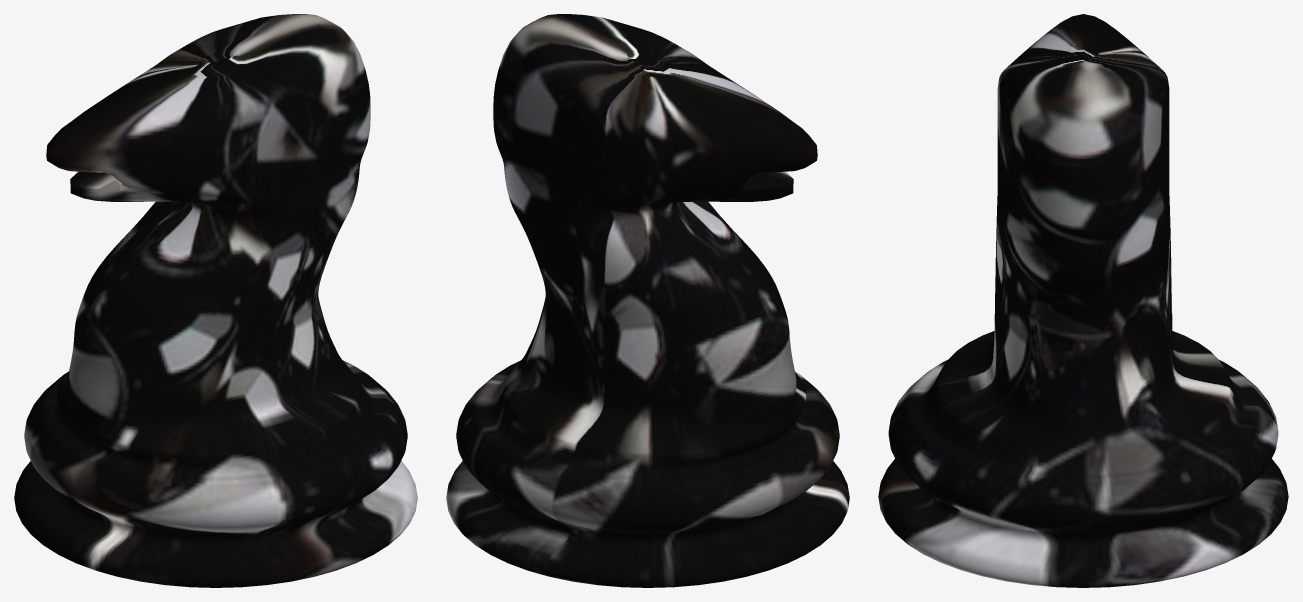
Rendered from knight.obj.
The picture shows the model from 3 angles, left to right: view 1: azimuth 30°, elevation 25°; view 2: azimuth 150°, elevation 25°; view 3: azimuth 270°, elevation 25°; orthographic projection.
Parts seen in each view (by area): view 1: mesh002; view 2: mesh002; view 3: mesh002.
Part boxes in pixels (left/top/right/bottom): mesh002: left=14, top=14, right=417, bottom=587; mesh002: left=446, top=14, right=849, bottom=587; mesh002: left=878, top=14, right=1288, bottom=587.
Size of the model in its own units: 7.95 by 10.08 by 7.95.
